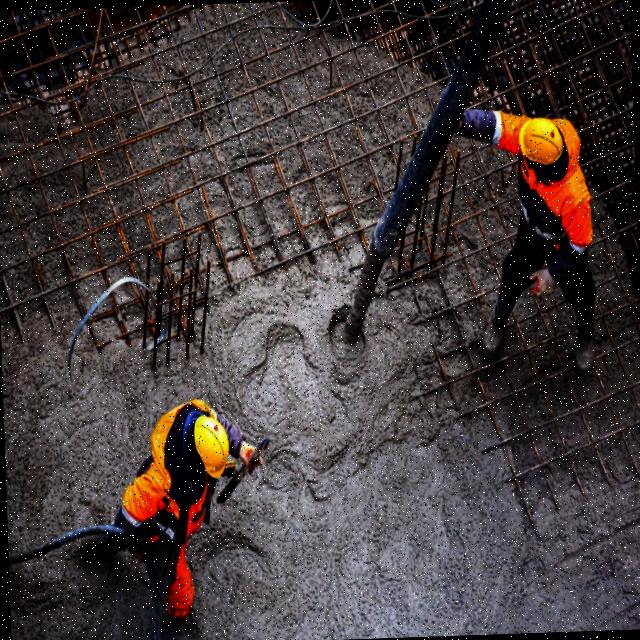Helmet: (192, 412, 232, 481), (518, 114, 564, 171)
Jacket: (136, 421, 197, 575), (518, 169, 589, 269)
